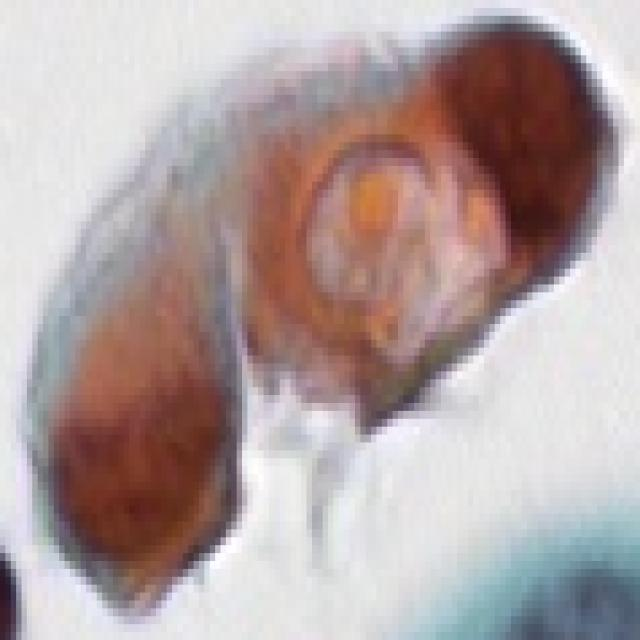cytoplasm: (23, 158, 259, 614)
nucleus: (14, 348, 282, 588)
